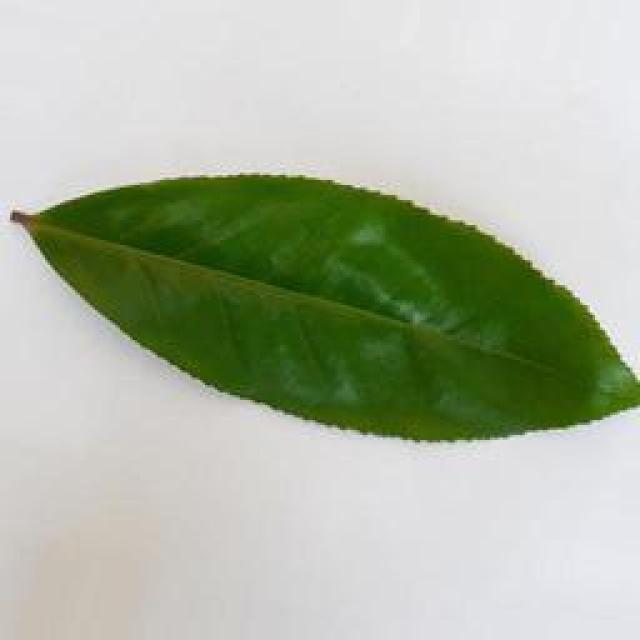Healthy: (2, 171, 640, 438)
